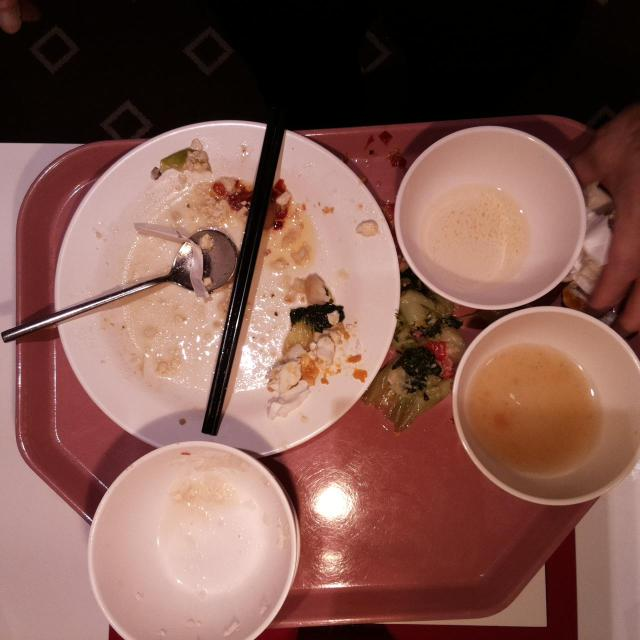Vegetable: (371, 267, 455, 429), (288, 304, 344, 332)
